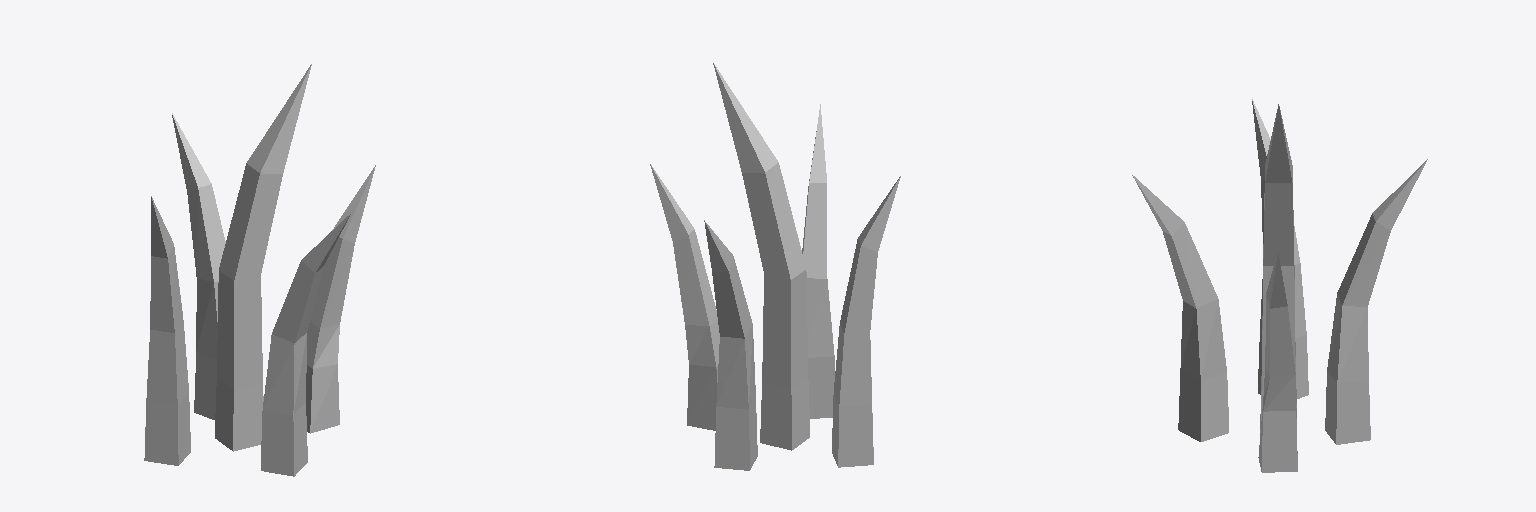
Rendered from grassModel.obj.
3 renders of one model, left to right at view 1: azimuth 30°, elevation 25°; view 2: azimuth 150°, elevation 25°; view 3: azimuth 270°, elevation 25°, orthographic.
Visible parts, largest first — view 1: ForestGrass01.001_Cube.045; view 2: ForestGrass01.001_Cube.045; view 3: ForestGrass01.001_Cube.045.
Part boxes in pixels (bbox=[...]): ForestGrass01.001_Cube.045: bbox=[144, 64, 375, 476]; ForestGrass01.001_Cube.045: bbox=[650, 63, 900, 470]; ForestGrass01.001_Cube.045: bbox=[1132, 99, 1427, 472].
Bounding box in the file's own units: 0.8247 × 1.19 × 0.8895.